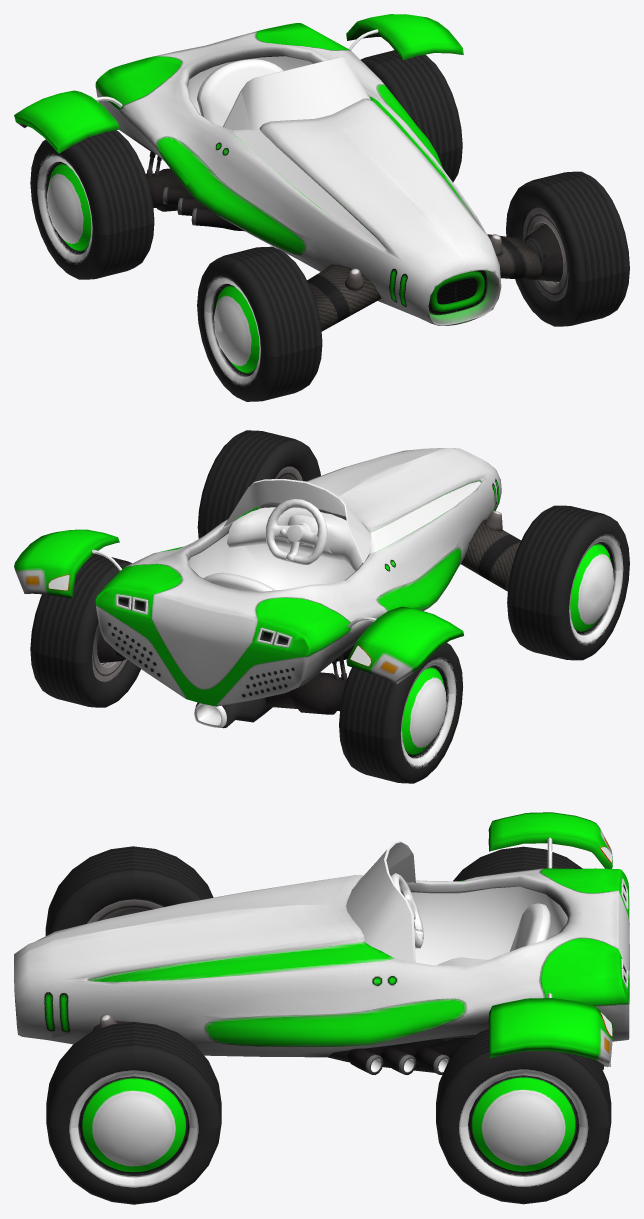
The model's file is carCloud.glb.
The picture shows the model from 3 angles, top to bottom: view 1: azimuth 30°, elevation 25°; view 2: azimuth 150°, elevation 25°; view 3: azimuth 270°, elevation 25°; orthographic projection. The views are drawn at different scales.
Visible parts, largest first — view 1: mesh_id22.002, topRightWheel, bottomRightWheel, topLeftWheel, mesh_id68.002, bottomLeftWheel, mesh_id53.002, mesh_id41.002, mesh_id40.002, mesh_id54.002, mesh_id52.002, mesh_id27.002 (+8 smaller); view 2: mesh_id22.002, topRightWheel, bottomRightWheel, bottomLeftWheel, topLeftWheel, mesh_id41.002, mesh_id6.002, mesh_id40.002, mesh_id48.002, mesh_id68.002, mesh_id27.002, mesh_id53.002 (+5 smaller); view 3: mesh_id22.002, topLeftWheel, bottomLeftWheel, topRightWheel, mesh_id6.002, mesh_id55.002, mesh_id40.002, mesh_id68.002, mesh_id56.002, mesh_id41.002, bottomRightWheel, mesh_id52.002 (+2 smaller).
Part boxes in pixels (x1,y1,x2,y2): mesh_id22.002: (95, 23, 501, 325); topRightWheel: (197, 246, 322, 401); bottomRightWheel: (30, 130, 154, 279); topLeftWheel: (506, 171, 629, 326); mesh_id68.002: (223, 56, 370, 130); bottomLeftWheel: (360, 50, 462, 182); mesh_id53.002: (156, 137, 305, 254); mesh_id41.002: (14, 90, 119, 153); mesh_id40.002: (346, 14, 463, 60); mesh_id54.002: (232, 129, 386, 250); mesh_id52.002: (197, 59, 283, 126); mesh_id27.002: (307, 265, 380, 331); mesh_id22.002: (95, 448, 501, 706); topRightWheel: (507, 505, 629, 660); bottomRightWheel: (339, 643, 462, 783); bottomLeftWheel: (30, 553, 140, 707); topLeftWheel: (197, 430, 320, 538); mesh_id41.002: (346, 606, 463, 684); mesh_id6.002: (188, 524, 354, 590); mesh_id40.002: (14, 529, 119, 598); mesh_id48.002: (227, 507, 362, 571); mesh_id68.002: (223, 479, 371, 562); mesh_id27.002: (461, 520, 521, 591); mesh_id53.002: (377, 547, 461, 610); mesh_id22.002: (14, 868, 629, 1057); topLeftWheel: (46, 1022, 221, 1204); bottomLeftWheel: (436, 1028, 611, 1204); topRightWheel: (45, 846, 213, 935); mesh_id6.002: (411, 886, 567, 965); mesh_id55.002: (205, 999, 465, 1046); mesh_id40.002: (488, 998, 612, 1066); mesh_id68.002: (346, 841, 415, 962); mesh_id56.002: (88, 942, 394, 982); mesh_id41.002: (488, 812, 612, 868); bottomRightWheel: (453, 846, 582, 881); mesh_id52.002: (437, 903, 550, 966).
Bounding box in the file's own units: 0.512 × 0.2536 × 0.5756.
Materials: 77 (48 with a texture image).
